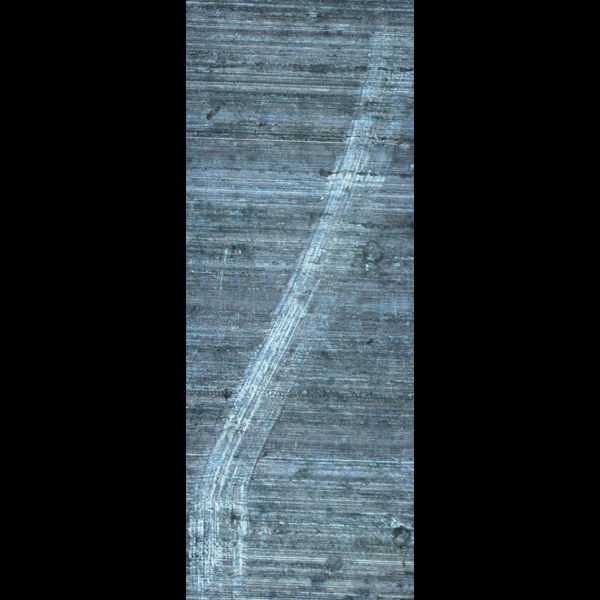d: (186, 423, 252, 599), (337, 29, 402, 183), (297, 162, 359, 317), (239, 315, 301, 442)
